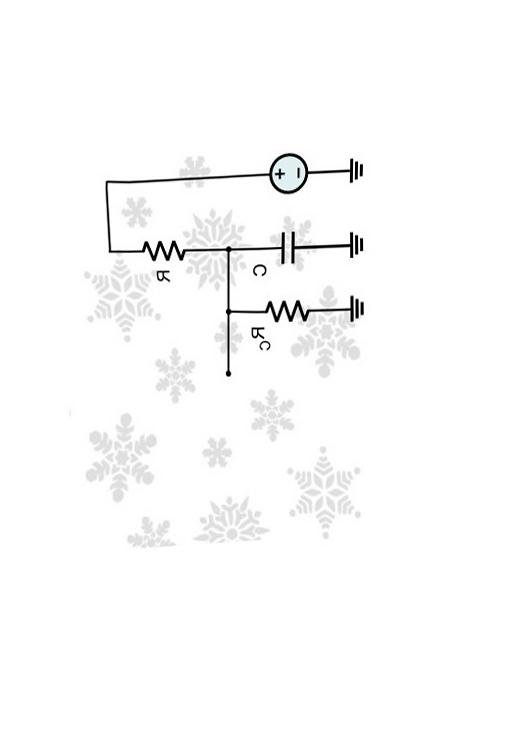Battery: (252, 132, 331, 210)
